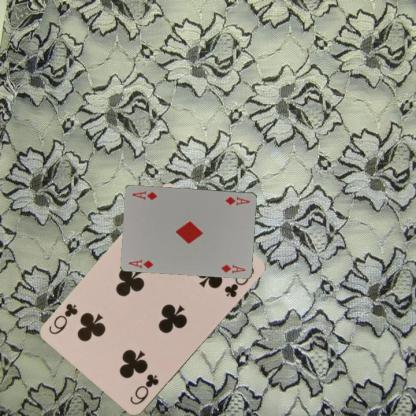6c: (127, 372, 160, 406)
Ad: (223, 193, 251, 207), (126, 257, 155, 269)
